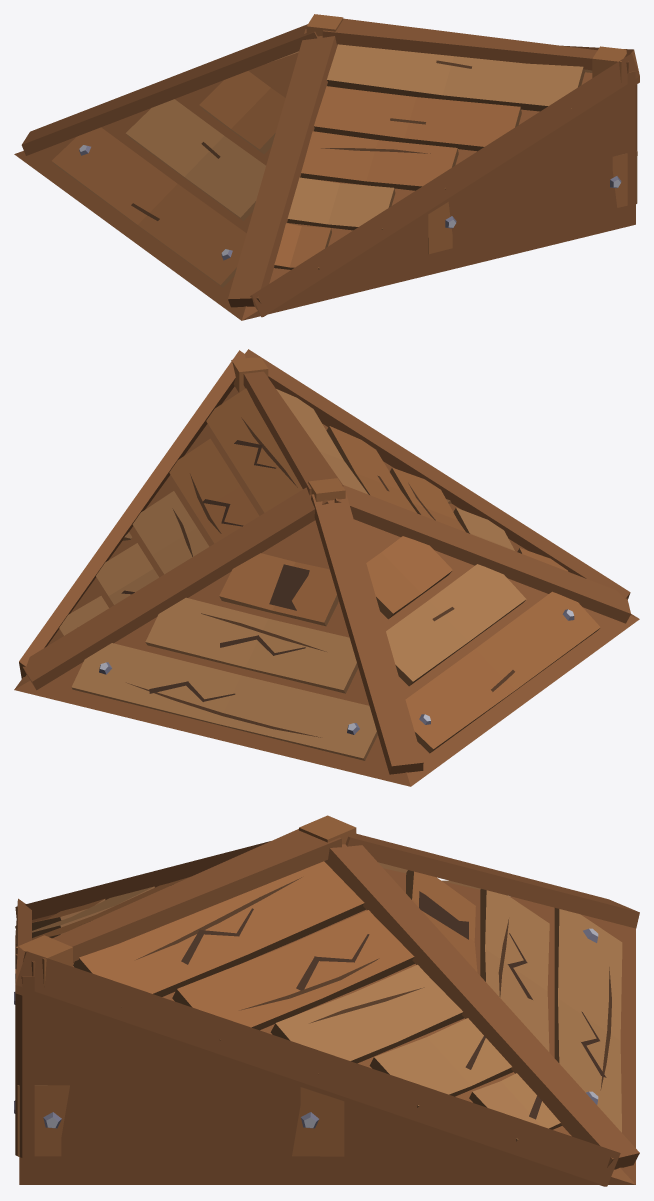
The model's file is cone_plank_peak_crack2.glb.
3 views of the same model, one above another, from view 1: azimuth 30°, elevation 25°; view 2: azimuth 150°, elevation 25°; view 3: azimuth 270°, elevation 25° (orthographic). The views are drawn at different scales.
Parts seen in each view (by area): view 1: Body; view 2: Body; view 3: Body.
Part boxes in pixels (box(x1,y1,x2,y2)): Body: box(14, 14, 639, 320); Body: box(14, 349, 639, 786); Body: box(14, 815, 639, 1186).
Bounding box in the file's own units: 4 × 1.65 × 4.
